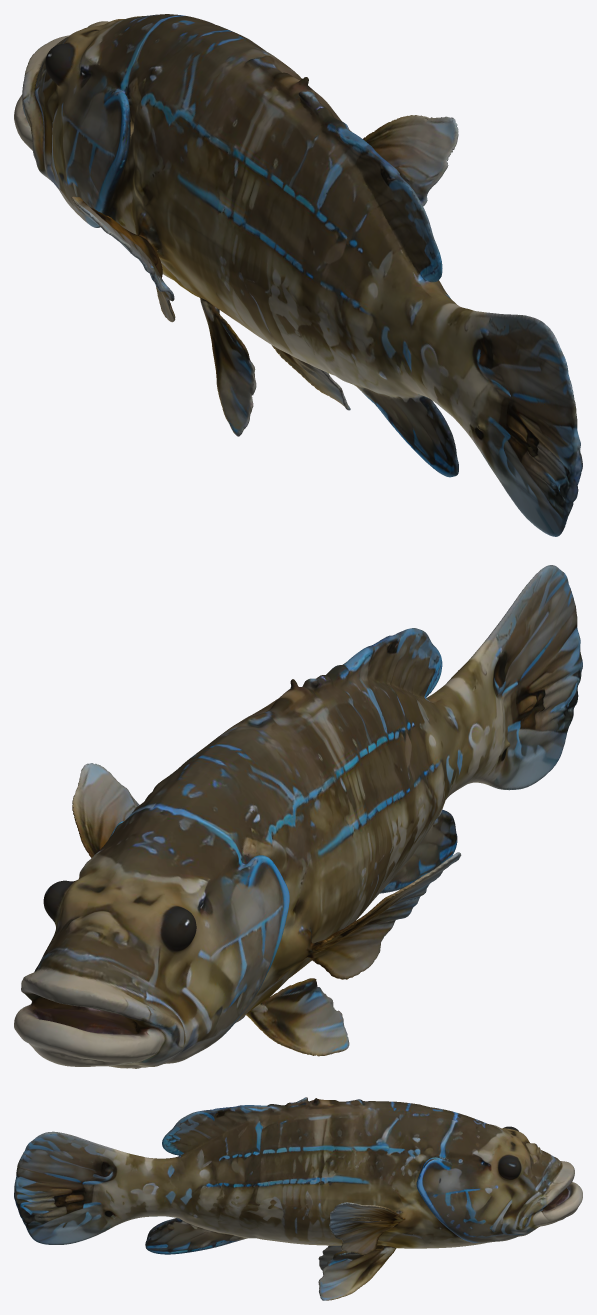
File: fish_bluelined_grouper.glb
3 renders of one model, top to bottom at view 1: azimuth 30°, elevation 25°; view 2: azimuth 150°, elevation 25°; view 3: azimuth 270°, elevation 25°, orthographic. The views are drawn at different scales.
Visible parts, largest first — view 1: tripo_node_ec0925b4-e183-4d9f-8793-8cb6cd688622; view 2: tripo_node_ec0925b4-e183-4d9f-8793-8cb6cd688622; view 3: tripo_node_ec0925b4-e183-4d9f-8793-8cb6cd688622.
Part boxes in pixels (x1,y1,x2,y2): tripo_node_ec0925b4-e183-4d9f-8793-8cb6cd688622: (14,14,582,536); tripo_node_ec0925b4-e183-4d9f-8793-8cb6cd688622: (14,565,582,1068); tripo_node_ec0925b4-e183-4d9f-8793-8cb6cd688622: (14,1097,582,1300).
Bounding box in the file's own units: 0.4069 × 0.3672 × 1.
Materials: 1 (1 with a texture image).
